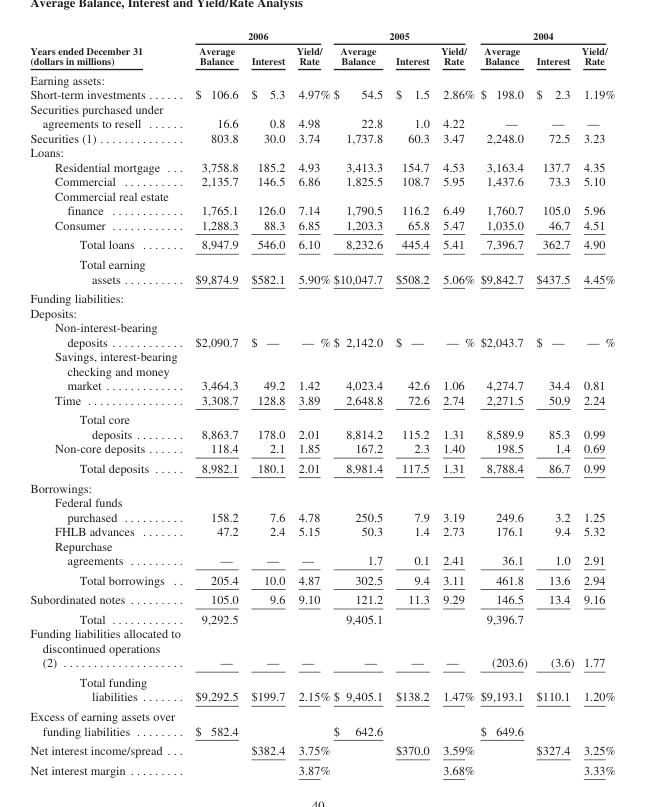table: (29, 29, 614, 776)
table column: (29, 29, 187, 776), (187, 29, 244, 776), (331, 29, 388, 776), (476, 29, 531, 776), (244, 29, 290, 776), (388, 29, 434, 776), (531, 29, 577, 776), (434, 29, 476, 776), (290, 29, 331, 776), (577, 29, 614, 776)
table column header: (29, 29, 614, 69)
table projected row header: (29, 69, 614, 86), (29, 288, 614, 305), (29, 477, 614, 494), (29, 144, 614, 159), (29, 305, 614, 319)
table row: (29, 625, 614, 671), (29, 348, 614, 392), (29, 671, 614, 706), (29, 254, 614, 288), (29, 706, 614, 740), (29, 409, 614, 440), (29, 538, 614, 569), (29, 101, 614, 130), (29, 188, 614, 217), (29, 319, 614, 348), (29, 494, 614, 523), (29, 42, 614, 69), (29, 234, 614, 254), (29, 457, 614, 477), (29, 569, 614, 589), (29, 589, 614, 608), (29, 740, 614, 759), (29, 69, 614, 86), (29, 217, 614, 234), (29, 288, 614, 305), (29, 392, 614, 409), (29, 440, 614, 457), (29, 477, 614, 494), (29, 608, 614, 625), (29, 759, 614, 776), (29, 86, 614, 101), (29, 144, 614, 159), (29, 173, 614, 188), (29, 523, 614, 538), (29, 130, 614, 144), (29, 159, 614, 173), (29, 305, 614, 319), (29, 29, 614, 42)
table spanning cell: (29, 29, 187, 69), (331, 29, 476, 42), (187, 29, 331, 42), (476, 29, 614, 42)
